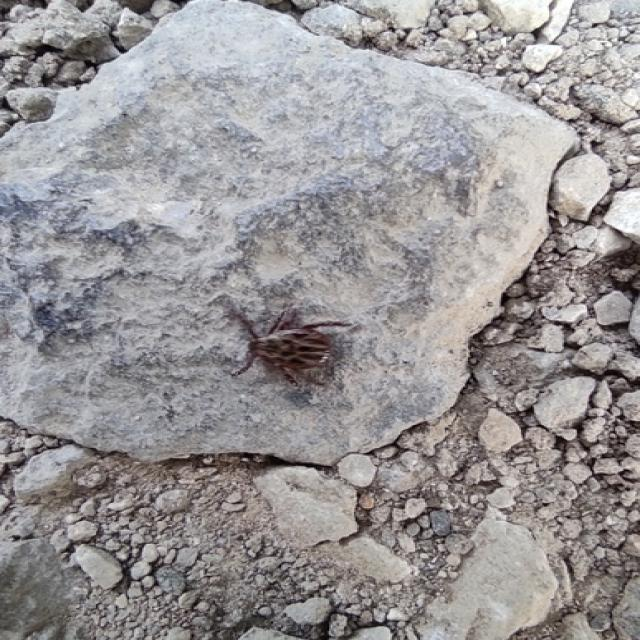Dermacentor Reticulatus-M: (233, 310, 361, 396)
